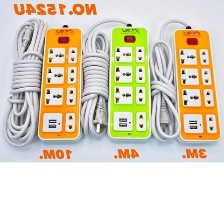three_eye_plug: (169, 27, 222, 145), (35, 24, 85, 144), (103, 25, 153, 143)
